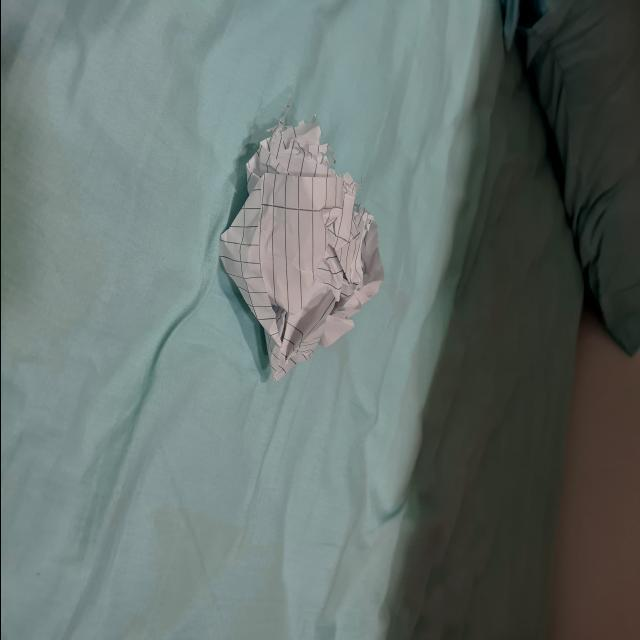Paper: (207, 106, 394, 393)
